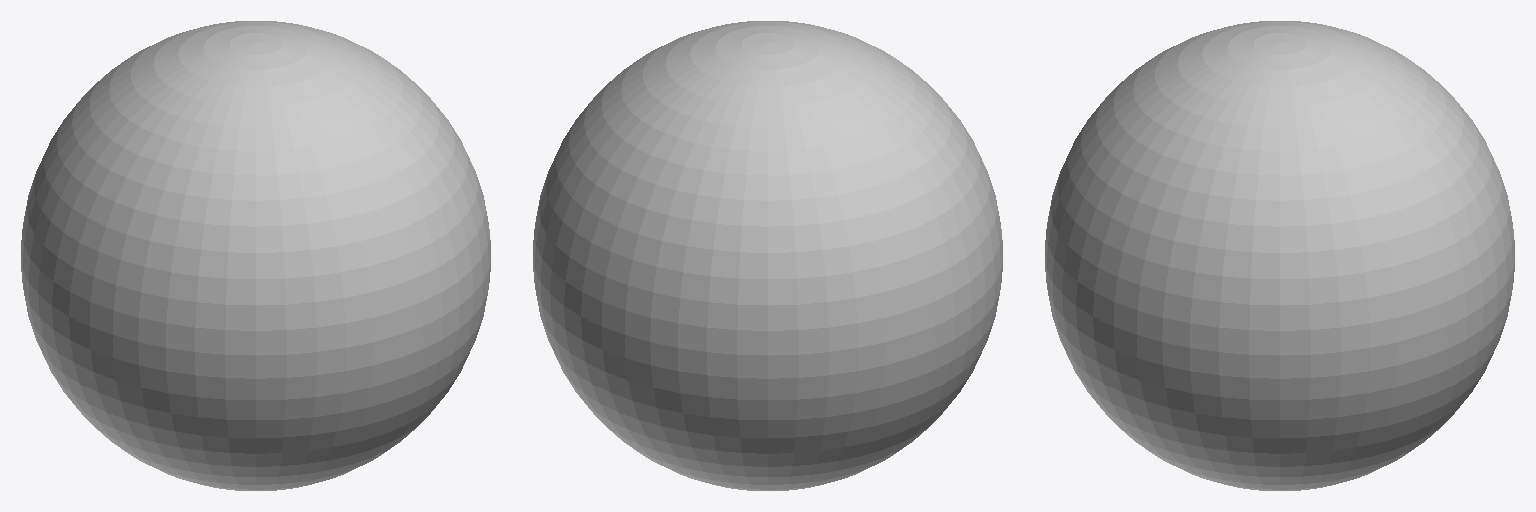
File: blender-sphere.obj
The picture shows the model from 3 angles: view 1: azimuth 30°, elevation 25°; view 2: azimuth 150°, elevation 25°; view 3: azimuth 270°, elevation 25°; orthographic projection.
Parts seen in each view (by area): view 1: Sphere; view 2: Sphere; view 3: Sphere.
Boxes of the visible parts, <box> form: Sphere: <box>21,21,490,490</box>; Sphere: <box>533,21,1002,490</box>; Sphere: <box>1045,21,1514,490</box>.
Bounding box in the file's own units: 2 × 2 × 2.